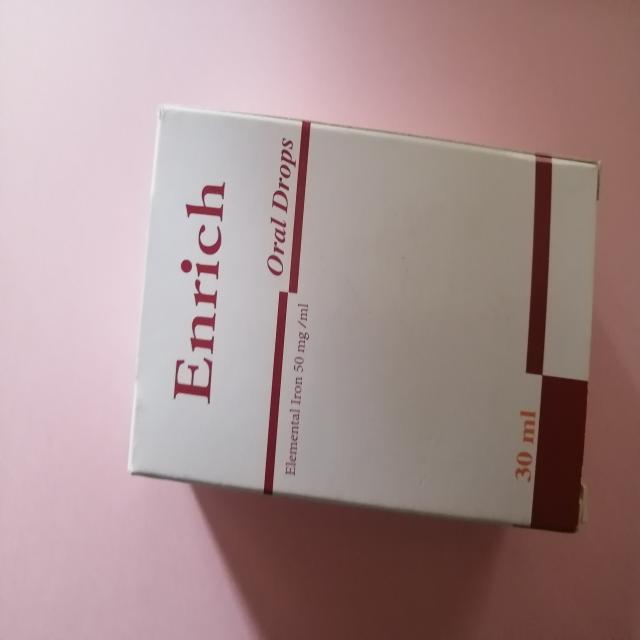Medicine: (125, 100, 604, 540)
